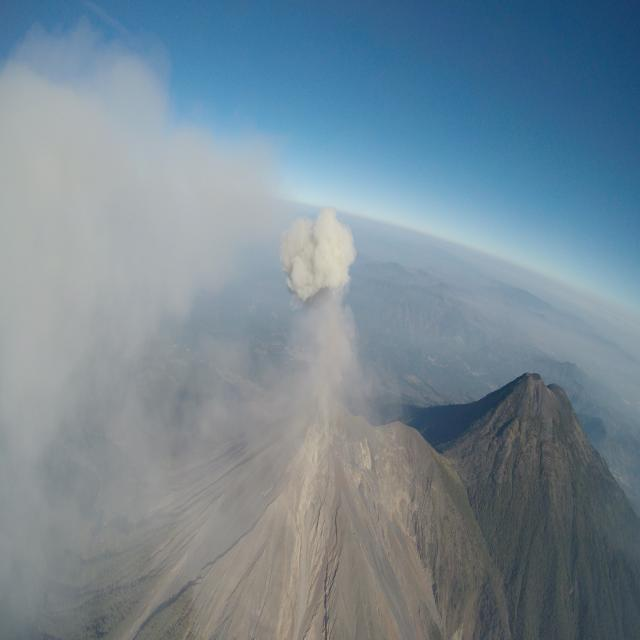Plume: (0, 49, 280, 446), (277, 205, 358, 302)
